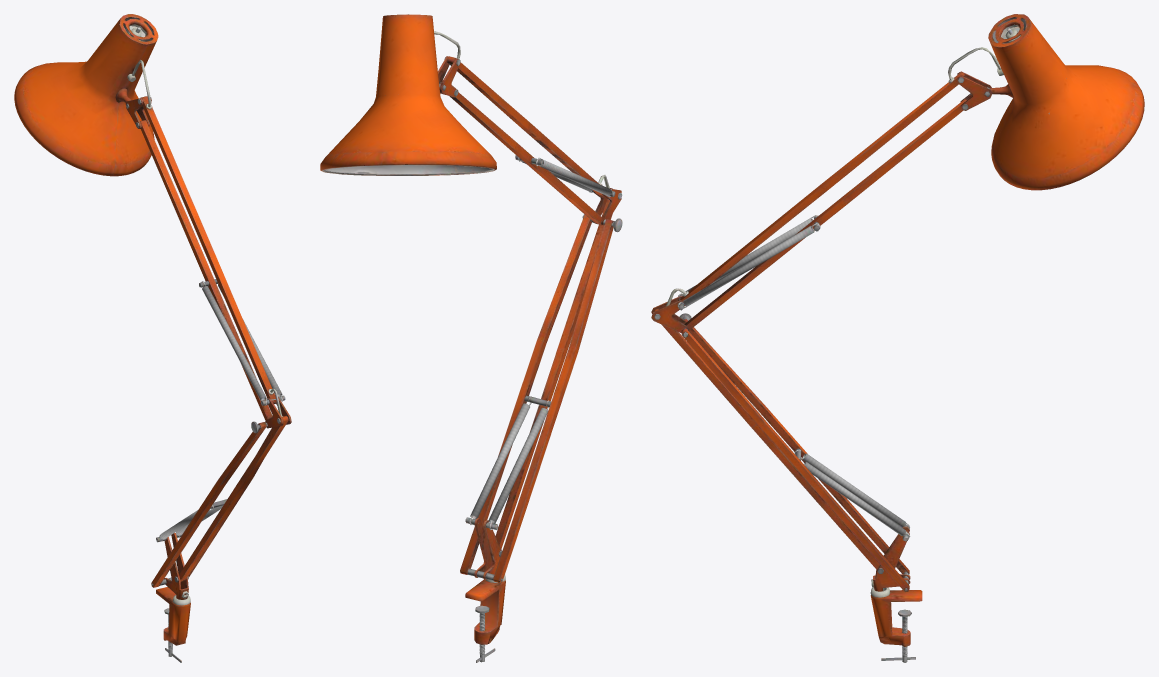
The model's file is desk_lamp_arm_01.glb.
3 renders of one model, left to right at view 1: azimuth 30°, elevation 25°; view 2: azimuth 150°, elevation 25°; view 3: azimuth 270°, elevation 25°, orthographic. The views are drawn at different scales.
Parts seen in each view (by area): view 1: desk_lamp_arm_01; view 2: desk_lamp_arm_01; view 3: desk_lamp_arm_01.
Part boxes in pixels (x1,y1,x2,y2): desk_lamp_arm_01: (14, 14, 291, 662); desk_lamp_arm_01: (320, 14, 622, 662); desk_lamp_arm_01: (651, 14, 1144, 662).
Bounding box in the file's own units: 0.2017 × 0.8926 × 0.6139.
Materials: 2 (2 with a texture image).
